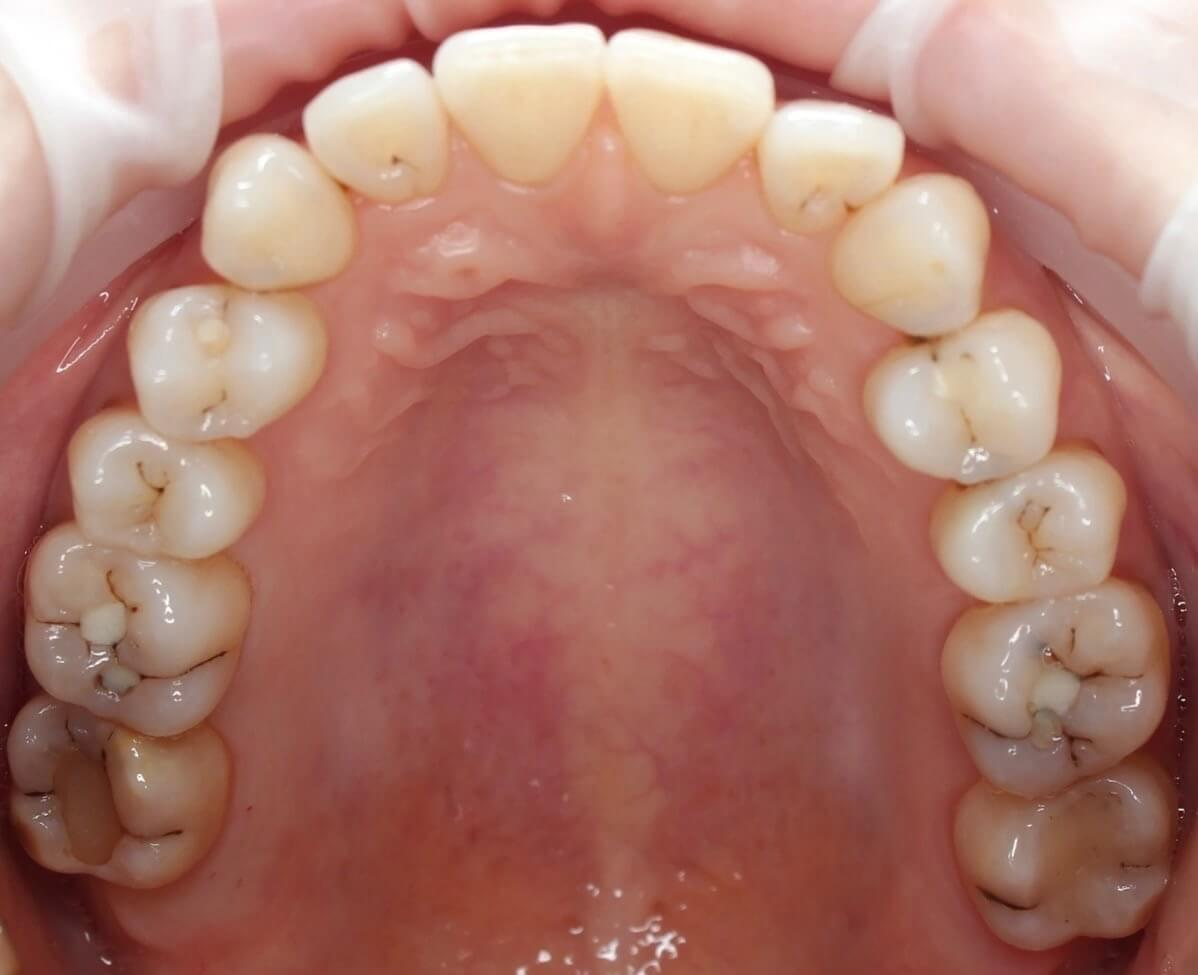UL1BC_decay: (872, 326, 1064, 473)
UL1M_decay: (948, 599, 1175, 765)
UL2BC_decay: (946, 467, 1131, 598)
UL2M_decay: (971, 784, 1164, 940)
ULCI_healthy: (608, 30, 771, 183)
ULC_healthy: (839, 184, 990, 329)
ULLI_decay: (768, 102, 895, 219)
UR1BC_decay: (135, 288, 325, 434)
UR1M_decay: (30, 551, 249, 717)
UR2BC_healthy: (75, 421, 268, 552)
UR2M_decay: (16, 716, 236, 883)
URCI_healthy: (440, 25, 609, 179)
URC_healthy: (198, 147, 350, 283)
URLI_decay: (312, 70, 450, 196)
